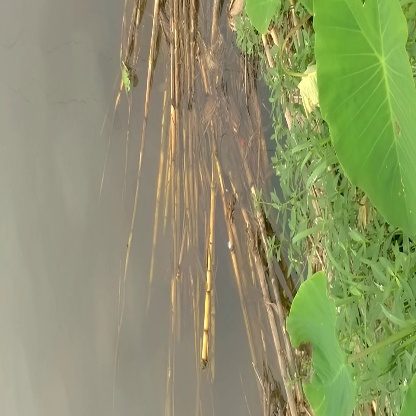branch: (137, 6, 190, 257)
